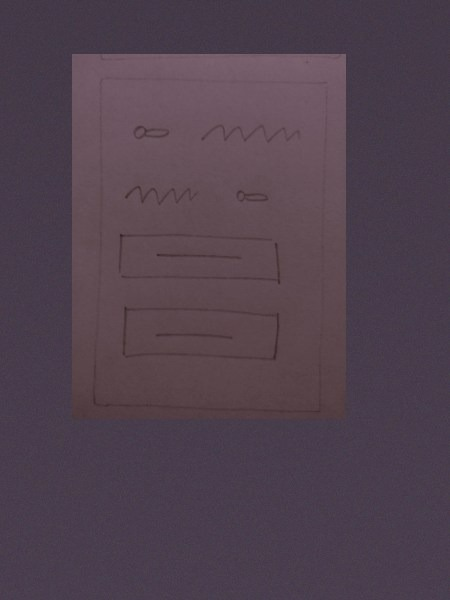button: (116, 302, 287, 369), (111, 227, 287, 291)
switch: (125, 117, 174, 147), (226, 183, 276, 212)
text: (192, 117, 306, 147), (121, 179, 202, 209)
